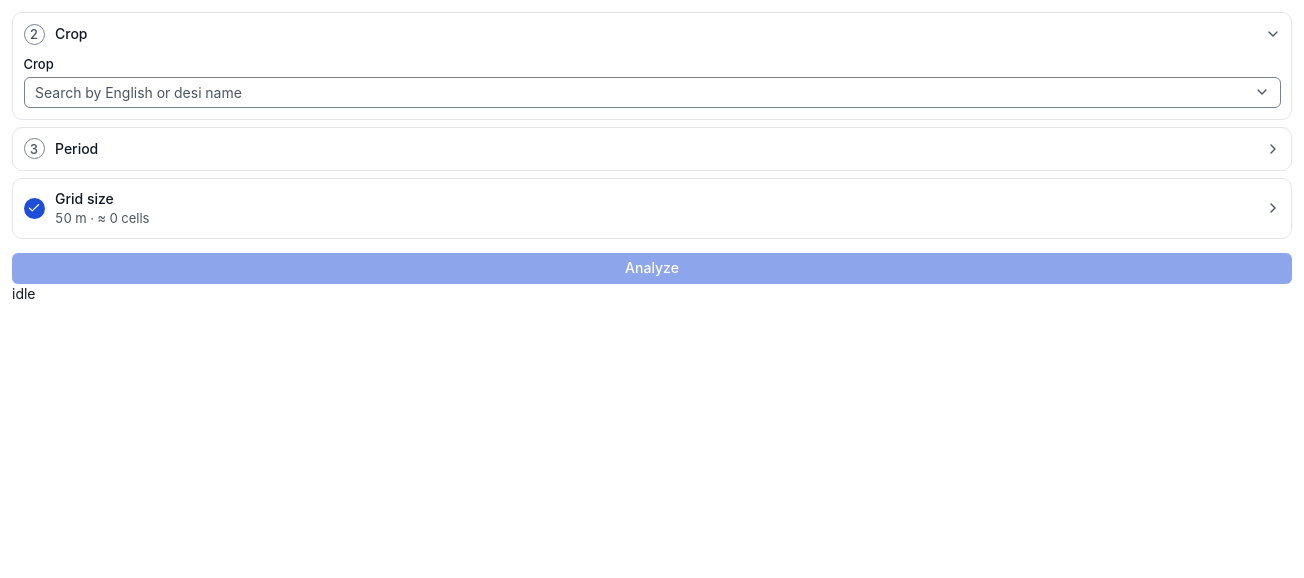
AnalysisSetupPanel › accepts a full year
This screenshot has width=1304, height=578.
Click the button "3 Period": point(78, 147) x1=13 y1=128 x2=1291 y2=170
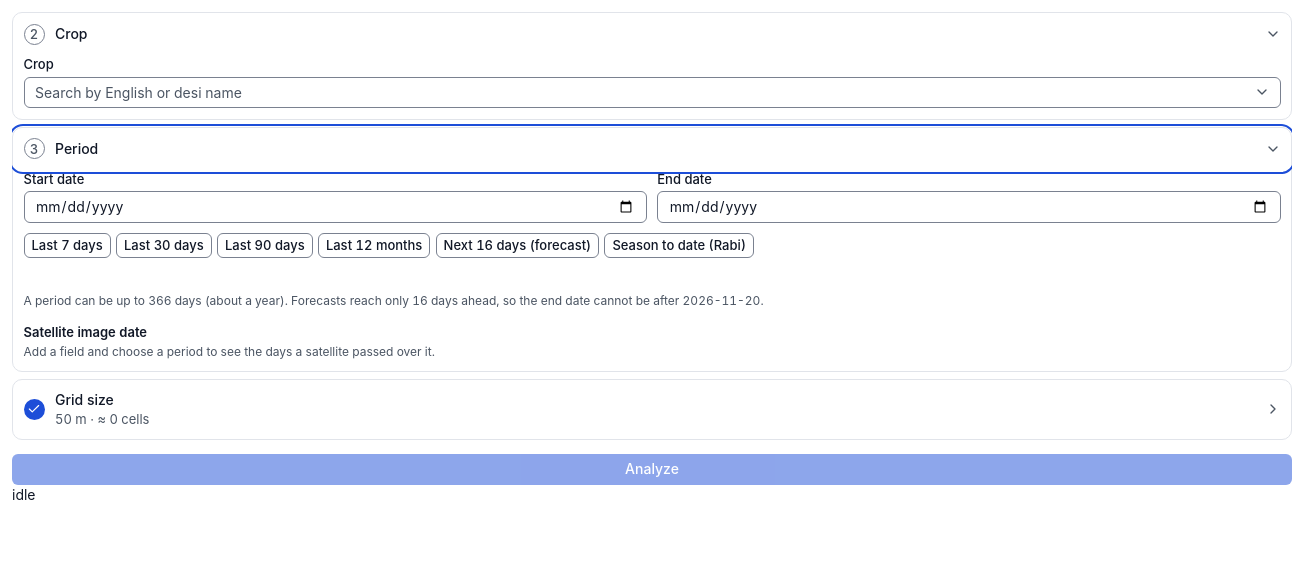
In the date field labelled "Start date": point(335, 207) x1=24 y1=191 x2=647 y2=222, type "2025-11-05"
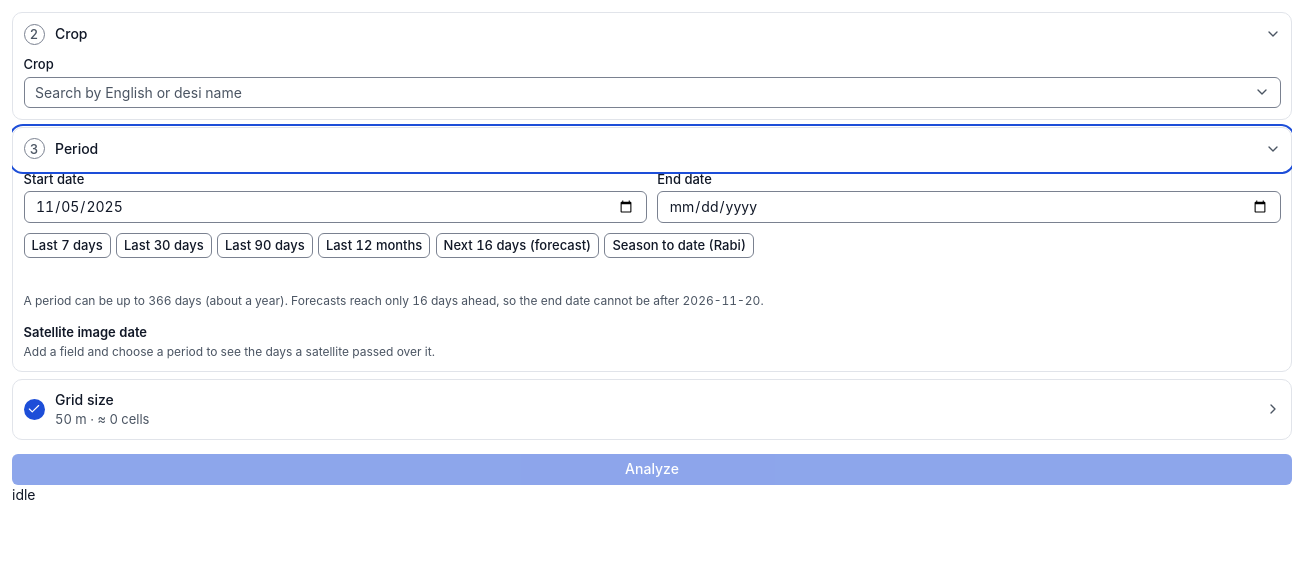
In the date field labelled "End date": point(969, 207) x1=657 y1=191 x2=1281 y2=222, type "2026-11-03"
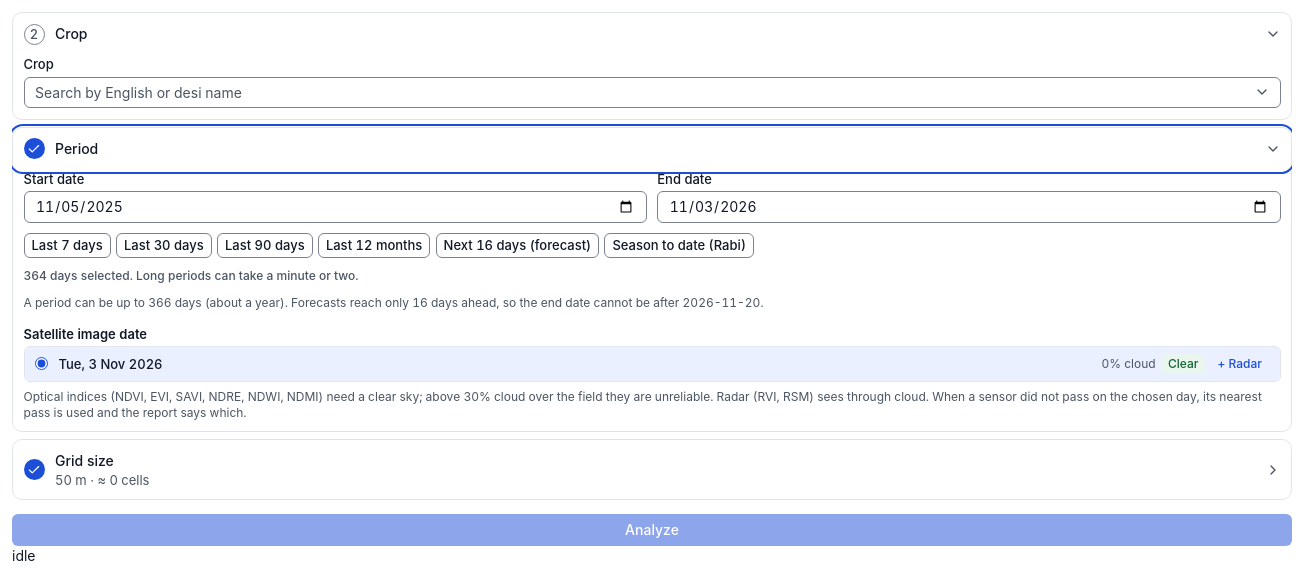
Check: the text "364 days selected. Long periods can take a minute or two." is shown, box x1=24 y1=268 x2=358 y2=283
